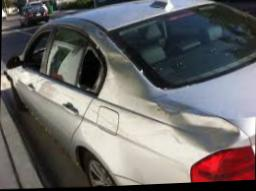Door: (74, 37, 108, 95)
Fender: (82, 27, 251, 167)
